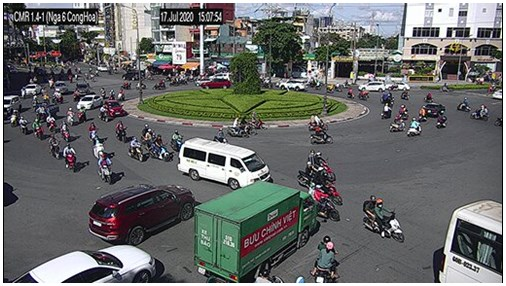xe_hoi: (87, 184, 195, 245), (9, 247, 158, 283), (3, 95, 22, 116), (78, 95, 100, 111), (275, 80, 307, 91), (200, 79, 231, 90), (22, 83, 43, 96), (76, 79, 90, 96), (53, 81, 69, 93), (209, 72, 233, 79)
xe_khach: (177, 137, 271, 187)
xe_may: (361, 194, 405, 243), (313, 235, 339, 282), (310, 182, 339, 222), (314, 166, 343, 205), (308, 148, 336, 181), (297, 161, 331, 187), (151, 134, 170, 162), (97, 152, 113, 185), (229, 116, 249, 140), (309, 126, 334, 145), (62, 143, 78, 172), (308, 113, 330, 132), (128, 136, 143, 163), (247, 111, 266, 132), (470, 105, 490, 122), (390, 114, 406, 134), (407, 118, 422, 139), (49, 133, 61, 159), (241, 116, 256, 136), (115, 120, 128, 143), (92, 134, 103, 159), (61, 120, 73, 142), (33, 117, 44, 140), (144, 128, 154, 152), (435, 109, 447, 129), (379, 86, 393, 103), (171, 128, 181, 151), (381, 102, 394, 119), (98, 105, 110, 123), (398, 104, 410, 122), (46, 113, 56, 134), (88, 121, 98, 142), (214, 128, 229, 142), (456, 98, 470, 113), (10, 109, 19, 129), (67, 105, 75, 127), (358, 85, 369, 101), (21, 114, 29, 135), (77, 105, 86, 123), (422, 92, 435, 104), (418, 105, 427, 121), (55, 89, 64, 104), (72, 88, 81, 103), (346, 85, 354, 101), (400, 88, 409, 102), (154, 79, 165, 90), (116, 88, 125, 101), (108, 87, 116, 101), (169, 77, 180, 87), (99, 85, 106, 100), (143, 123, 148, 140)
xe_tai: (194, 180, 319, 282)
